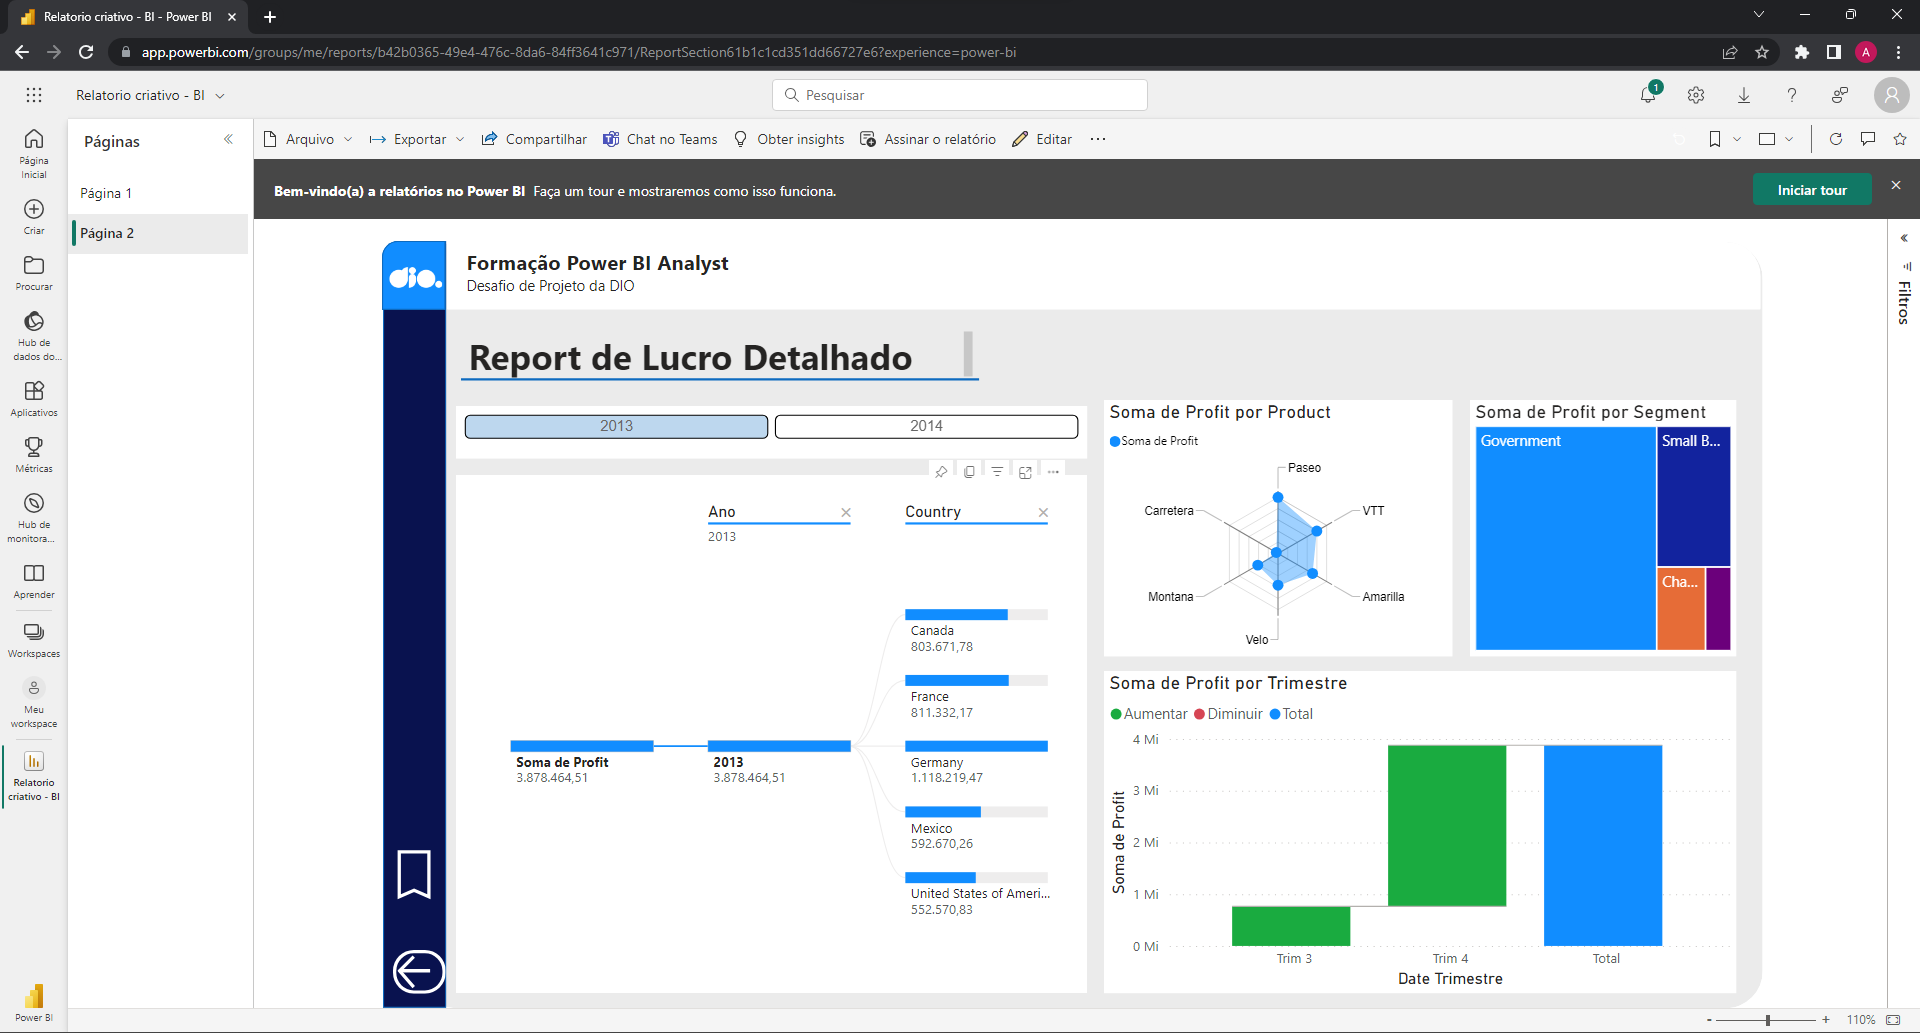

The page's visual inventory and layout, read from the dashboard file:
{"tool":"powerbi","page":{"name":"Página 2","canvas":[1280,720],"ordinal":1},"visuals":[{"type":"shape","box":[42.6,20.7,1225.3,699.3],"z":0},{"type":"shape","box":[83.9,127.8,473,37.1],"z":0,"group":"g1"},{"type":"textbox","box":[85.3,97.6,470.2,52.2],"z":1000,"group":"g1"},{"type":"shape","box":[12.4,20.2,57.7,699.8],"z":1000},{"type":"shape","box":[12.4,20.6,57.7,63.2],"z":2000},{"type":"image","box":[13.7,33,57.7,39.9],"z":3000},{"type":"shape","title":"Fundo do Título","box":[71.5,20.6,1198.9,61.9],"z":4000},{"type":"textbox","title":"Título do report","box":[83.9,22,378.1,63.2],"z":5000},{"type":"shape","box":[79.7,233.7,576.1,473],"z":6000},{"type":"decompositionTreeVisual","fields":{"Analyze":["Sum(financials.Profit)"],"ExplainBy":["financials.Date.Variation.Hierarquia de datas.Ano","financials.Country"]},"box":[99.8,242.2,536.3,456.5],"z":7000},{"type":"waterfallChart","fields":{"Category":["financials.Date.Variation.Hierarquia de datas.Trimestre"],"Y":["Sum(financials.Profit)"]},"box":[670.9,412.5,577.4,294.2],"z":8000},{"type":"ChicletSlicer1448559807354","fields":{"Category":["financials.Date.Variation.Hierarquia de datas.Ano"]},"box":[79.7,170.5,576.1,48.1],"z":9000},{"type":"RadarChart1446119667547","fields":{"Category":["financials.Product"],"Y":["Sum(financials.Profit)"]},"box":[670.9,165,317.6,233.7],"z":10000},{"type":"treemap","fields":{"Values":["Sum(financials.Profit)"],"Group":["financials.Segment"]},"box":[1005,165,243.4,233.7],"z":11000},{"type":"actionButton","box":[22,666.8,48.1,39.9],"z":12000},{"type":"group","id":"g1","title":"Sales report","box":[83.9,97.6,473,67.4],"z":13000},{"type":"actionButton","box":[12.8,545.8,57,105.5],"z":14000}]}

Visuals, with their boxes on the page's 1280x720 design canvas (x1, y1, x2, y2). These are canvas units, not pixel positions in the 1920x1033 screenshot, which may show the page scaled, cropped or inside an application window:
shape: <box>43,21,1268,720</box>
shape: <box>84,128,557,165</box>
textbox: <box>85,98,556,150</box>
shape: <box>12,20,70,720</box>
shape: <box>12,21,70,84</box>
image: <box>14,33,71,73</box>
"Fundo do Título" shape: <box>72,21,1270,82</box>
"Título do report" textbox: <box>84,22,462,85</box>
shape: <box>80,234,656,707</box>
decompositionTreeVisual - Sum(financials.Profit) x financials.Date.Variation.Hierarquia de datas.Ano: <box>100,242,636,699</box>
waterfallChart - financials.Date.Variation.Hierarquia de datas.Trimestre x Sum(financials.Profit): <box>671,412,1248,707</box>
ChicletSlicer1448559807354 - financials.Date.Variation.Hierarquia de datas.Ano: <box>80,170,656,219</box>
RadarChart1446119667547 - financials.Product x Sum(financials.Profit): <box>671,165,988,399</box>
treemap - Sum(financials.Profit) x financials.Segment: <box>1005,165,1248,399</box>
actionButton: <box>22,667,70,707</box>
"Sales report" group: <box>84,98,557,165</box>
actionButton: <box>13,546,70,651</box>
